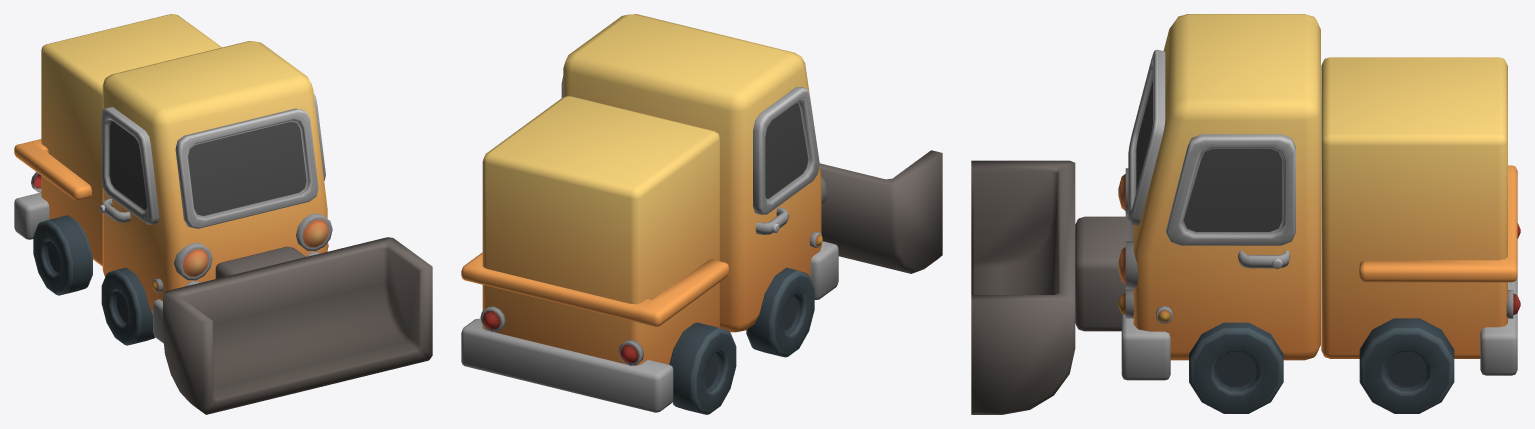
The model's file is mct_car_03.fbx.
3 views of the same model, side by side, from view 1: azimuth 30°, elevation 25°; view 2: azimuth 150°, elevation 25°; view 3: azimuth 270°, elevation 25° (orthographic). The views are drawn at different scales.
Parts seen in each view (by area): view 1: mct_car_03, mct_car_03_w; view 2: mct_car_03, mct_car_03_w; view 3: mct_car_03, mct_car_03_w.
Part boxes in pixels (<box>): mct_car_03: <box>14,14,432,414</box>; mct_car_03_w: <box>33,215,154,345</box>; mct_car_03: <box>461,14,942,412</box>; mct_car_03_w: <box>669,267,814,414</box>; mct_car_03: <box>971,14,1520,414</box>; mct_car_03_w: <box>1189,318,1454,413</box>.
Size of the model in its own units: 158 by 159 by 262.
